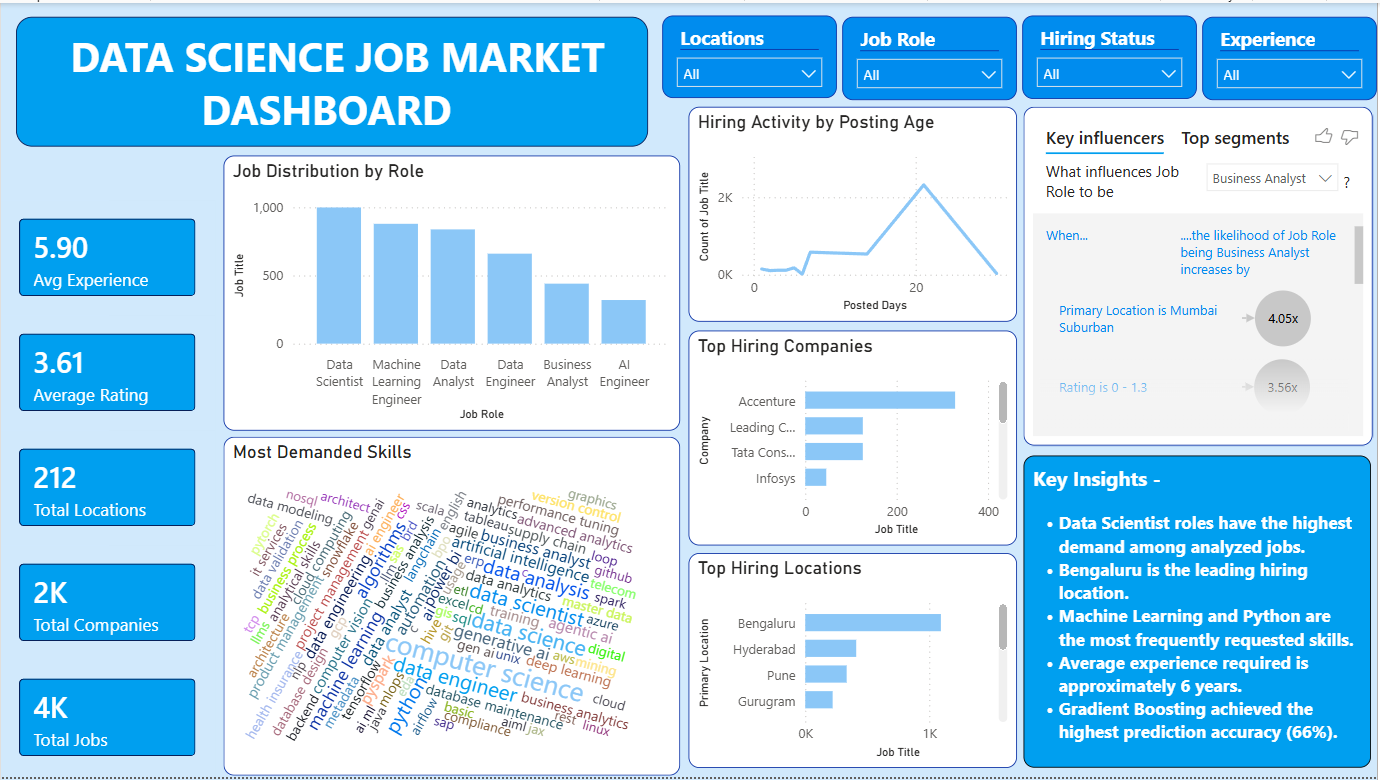

What the dashboard file says about the page in this screenshot:
{"tool":"powerbi","page":{"name":"Page 1","canvas":[1280,720],"ordinal":0},"visuals":[{"type":"textbox","box":[14,12.8,588.4,120.9],"z":0},{"type":"cardVisual","fields":{"Data":["cleaned_naukri_jobs.Avg Experience"]},"box":[0,183.7,198.8,107],"z":1000},{"type":"cardVisual","fields":{"Data":["cleaned_naukri_jobs.Average Rating"]},"box":[0,290.7,198.8,107],"z":2000},{"type":"cardVisual","fields":{"Data":["cleaned_naukri_jobs.Total Locations"]},"box":[0,397.7,198.8,107],"z":3000},{"type":"cardVisual","fields":{"Data":["cleaned_naukri_jobs.Total Companies"]},"box":[0,504.7,198.8,107],"z":4000},{"type":"cardVisual","fields":{"Data":["cleaned_naukri_jobs.Total Jobs"]},"box":[0,611.6,198.8,107],"z":5000},{"type":"slicer","fields":{"Values":["cleaned_naukri_jobs.Job Role"]},"box":[782.6,12.8,162.8,77.9],"z":6000},{"type":"clusteredColumnChart","title":"Job Distribution by Role","fields":{"Category":["cleaned_naukri_jobs.Job Role"],"Y":["CountNonNull(cleaned_naukri_jobs.Job Title)"]},"box":[207,141.9,424.4,255.8],"z":7000},{"type":"clusteredBarChart","title":"Top Hiring Companies","fields":{"Category":["cleaned_naukri_jobs.Company"],"Y":["CountNonNull(cleaned_naukri_jobs.Job Title)"]},"box":[639.5,304.7,305.8,200],"z":8000},{"type":"clusteredBarChart","title":"Top Hiring Locations","fields":{"Category":["cleaned_naukri_jobs.Primary Location"],"Y":["CountNonNull(cleaned_naukri_jobs.Job Title)"]},"box":[639.5,511.6,305.8,200],"z":9000},{"type":"WordCloud1447959067750","title":"Most Demanded Skills","fields":{"Category":["cleaned_naukri_jobs.Top Skills"],"Values":["CountNonNull(cleaned_naukri_jobs.Top Skills)"]},"box":[207,403.5,424.4,315.1],"z":10000},{"type":"ribbonChart","title":"Hiring Activity by Posting Age","fields":{"Category":["cleaned_naukri_jobs.Posted Days"],"Y":["CountNonNull(cleaned_naukri_jobs.Job Title)"]},"box":[639.5,97,305.8,200],"z":11000},{"type":"keyDriversVisual","fields":{"ExplainBy":["cleaned_naukri_jobs.Average Experience","cleaned_naukri_jobs.Rating","cleaned_naukri_jobs.Primary Location","cleaned_naukri_jobs.Top Skills","cleaned_naukri_jobs.Hiring Status"],"Target":["cleaned_naukri_jobs.Job Role"]},"box":[951.2,96.5,324.5,315.5],"z":12000},{"type":"slicer","fields":{"Values":["cleaned_naukri_jobs.Primary Location"]},"box":[615,11.6,162.8,76.7],"z":13000},{"type":"slicer","fields":{"Values":["cleaned_naukri_jobs.Experience Level"]},"box":[1117.4,12.8,162.8,77.9],"z":14000},{"type":"slicer","fields":{"Values":["cleaned_naukri_jobs.Hiring Status"]},"box":[950,12,162.8,77.9],"z":14001},{"type":"textbox","box":[951.2,420.9,323.3,290.7],"z":14002}]}

Visuals, with their boxes in screenshot pixels (x1, y1, x2, y2), scaled from the page's 1280x720 canvas onto the 1380x780 screenshot:
textbox: rect(15, 14, 649, 145)
cardVisual - cleaned_naukri_jobs.Avg Experience: rect(0, 199, 214, 315)
cardVisual - cleaned_naukri_jobs.Average Rating: rect(0, 315, 214, 431)
cardVisual - cleaned_naukri_jobs.Total Locations: rect(0, 431, 214, 547)
cardVisual - cleaned_naukri_jobs.Total Companies: rect(0, 547, 214, 663)
cardVisual - cleaned_naukri_jobs.Total Jobs: rect(0, 663, 214, 778)
slicer - cleaned_naukri_jobs.Job Role: rect(844, 14, 1019, 98)
"Job Distribution by Role" clusteredColumnChart: rect(223, 154, 681, 431)
"Top Hiring Companies" clusteredBarChart: rect(689, 330, 1019, 547)
"Top Hiring Locations" clusteredBarChart: rect(689, 554, 1019, 771)
"Most Demanded Skills" WordCloud1447959067750: rect(223, 437, 681, 778)
"Hiring Activity by Posting Age" ribbonChart: rect(689, 105, 1019, 322)
keyDriversVisual - cleaned_naukri_jobs.Average Experience x cleaned_naukri_jobs.Rating: rect(1026, 105, 1375, 446)
slicer - cleaned_naukri_jobs.Primary Location: rect(663, 13, 839, 96)
slicer - cleaned_naukri_jobs.Experience Level: rect(1205, 14, 1379, 98)
slicer - cleaned_naukri_jobs.Hiring Status: rect(1024, 13, 1200, 97)
textbox: rect(1026, 456, 1374, 771)
